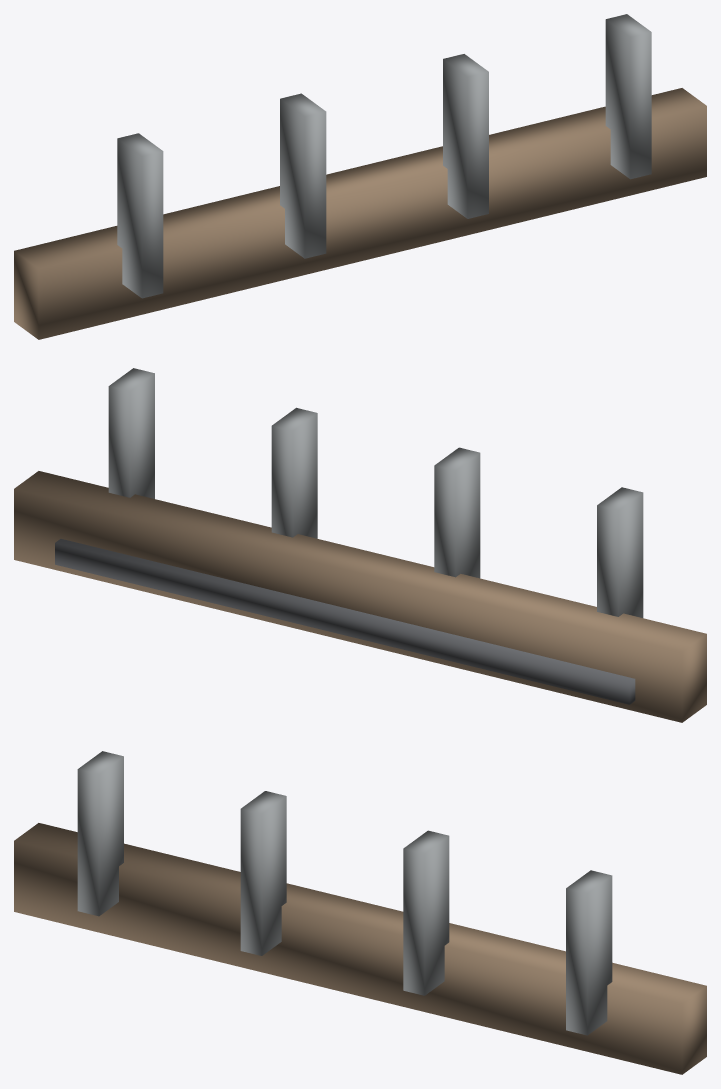
The model's file is coat_hook_rail__reinforced.glb.
3 views of the same model, one above another, from view 1: azimuth 30°, elevation 25°; view 2: azimuth 150°, elevation 25°; view 3: azimuth 330°, elevation 25° (orthographic).
Parts seen in each view (by area): view 1: world; view 2: world; view 3: world.
Boxes of the visible parts, x1,y1,x2,y2 form: world: [14, 14, 706, 339]; world: [14, 368, 706, 722]; world: [14, 751, 706, 1074].
Size of the model in its own units: 0.8034 by 0.204 by 0.1047.
